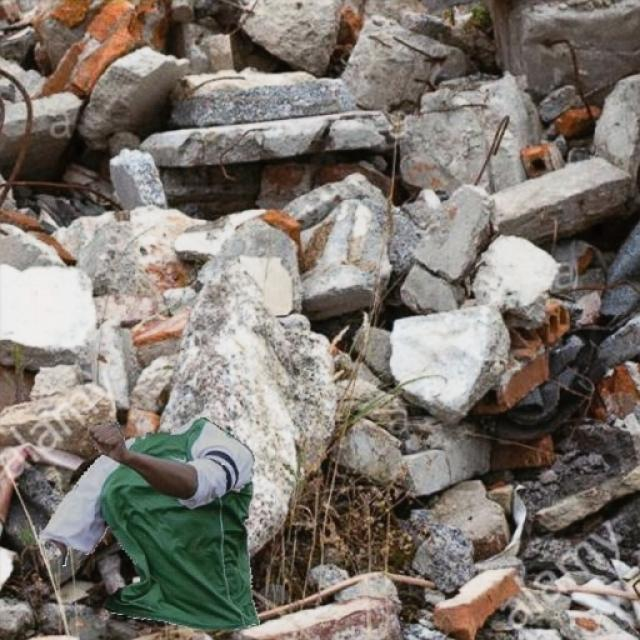Person in Rubble: (38, 418, 258, 628)
